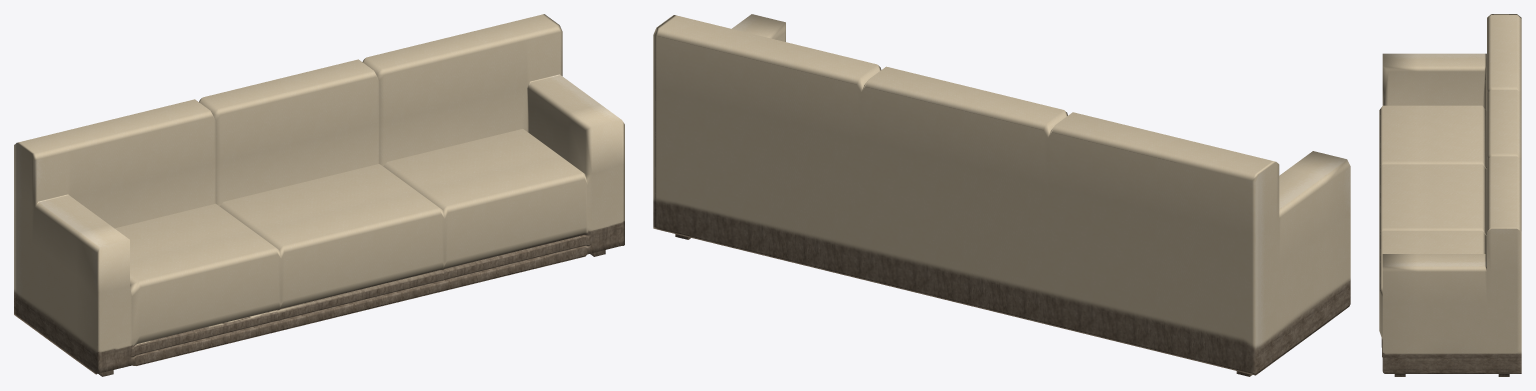
The model's file is obj_Object_Sofa.fbx.
3 renders of one model, left to right at view 1: azimuth 30°, elevation 25°; view 2: azimuth 150°, elevation 25°; view 3: azimuth 270°, elevation 25°, orthographic. The views are drawn at different scales.
Visible parts, largest first — view 1: Sofa; view 2: Sofa; view 3: Sofa.
Part boxes in pixels (bbox=[...]): Sofa: bbox=[14, 14, 624, 376]; Sofa: bbox=[653, 14, 1350, 376]; Sofa: bbox=[1379, 14, 1521, 376].
Size of the model in its own units: 293 by 97.34 by 81.91.
Materials: 1 (1 with a texture image).
